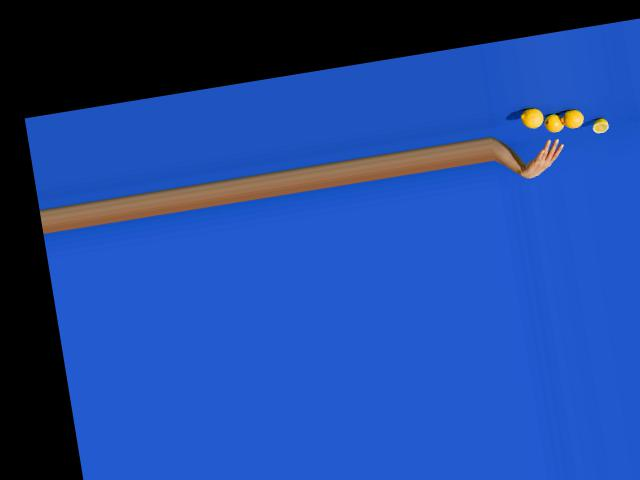lemon: (560, 110, 587, 130)
